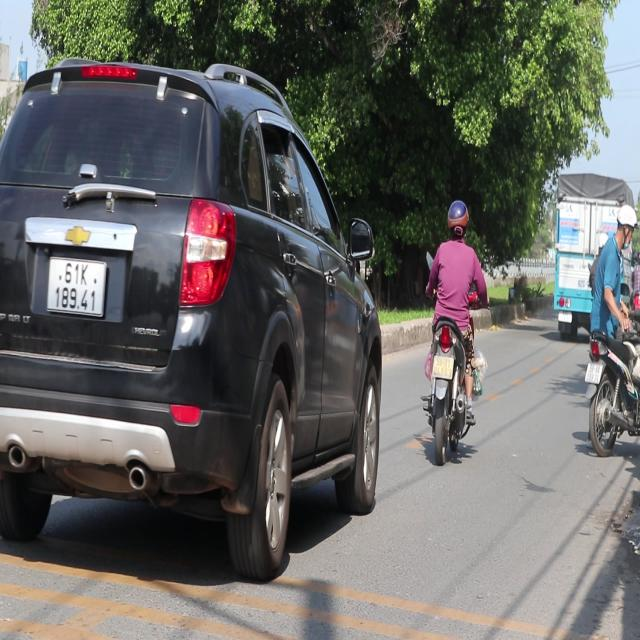helmet: (445, 198, 469, 240), (616, 202, 636, 247)
licenseplate: (418, 198, 488, 460), (581, 199, 639, 458)
nohelmet: (432, 354, 453, 379), (584, 363, 602, 384)
